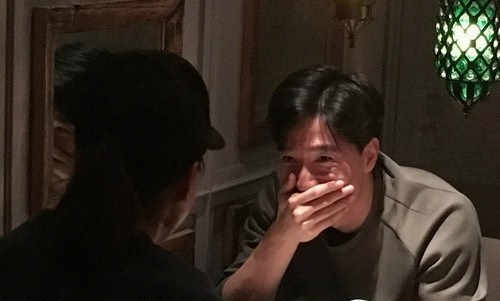face: (283, 120, 359, 224)
